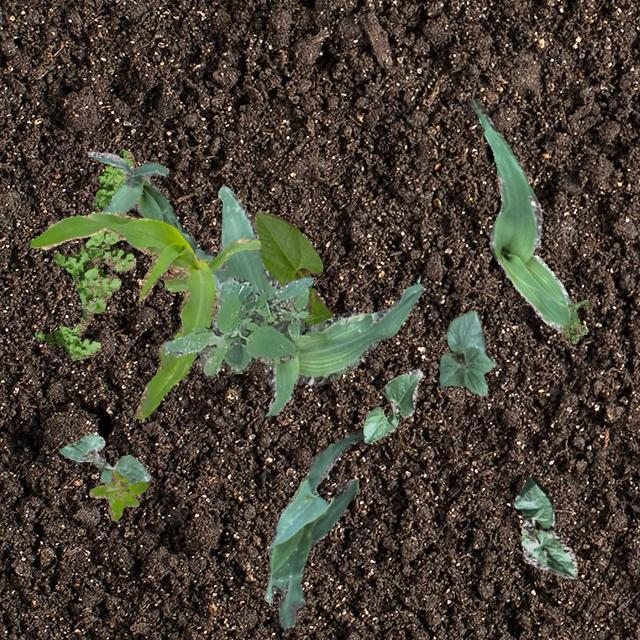crop: (192, 186, 422, 414), (29, 210, 259, 418), (468, 98, 570, 332), (262, 432, 362, 628), (86, 150, 196, 252), (252, 210, 332, 324), (512, 474, 576, 578), (58, 432, 150, 486), (438, 310, 494, 396), (362, 368, 422, 442)
weed: (34, 148, 134, 360), (160, 276, 312, 374), (88, 468, 146, 520), (560, 298, 588, 342)
